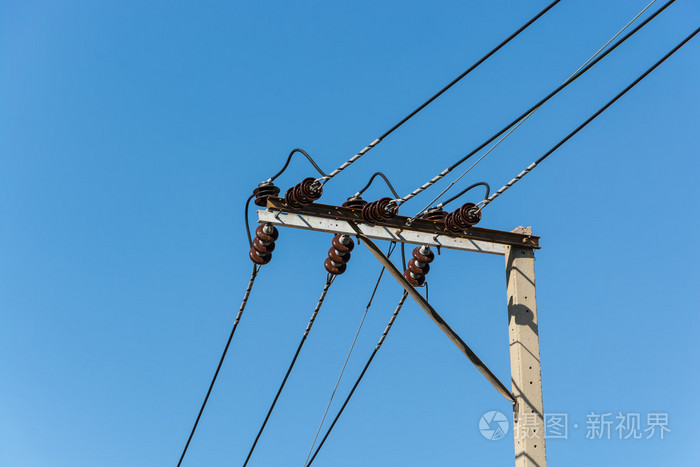insulator: (285, 178, 327, 216), (401, 248, 436, 289), (444, 202, 480, 239), (246, 226, 279, 264), (322, 238, 354, 275), (364, 196, 397, 225)
